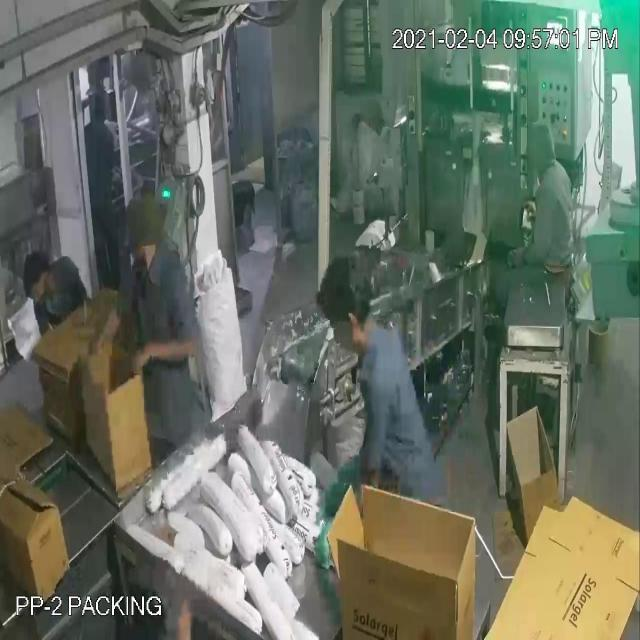No_Gloves: (50, 58, 347, 488)
